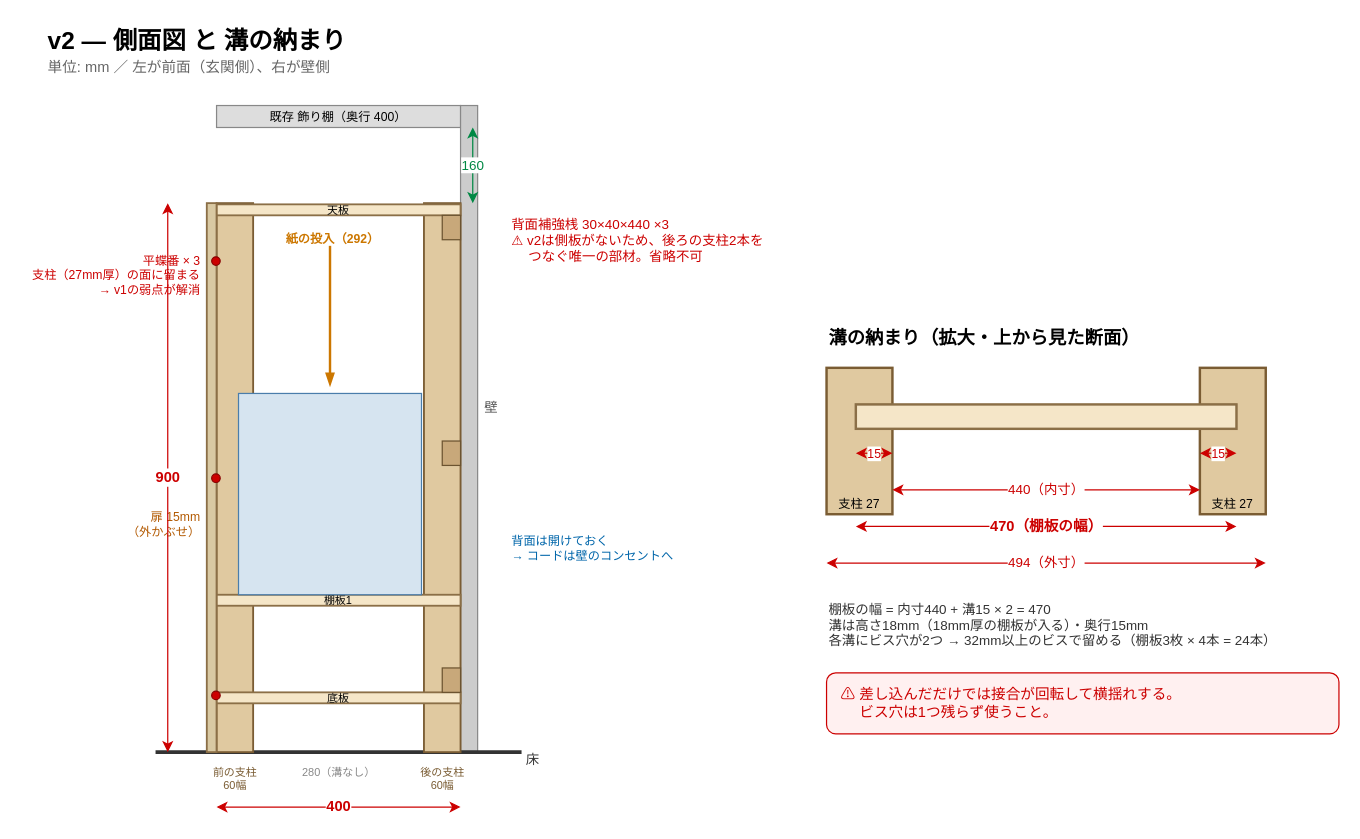
The diagram is 1360 pixels wide and 839 high, and some of its shapes have lost their labels. The shapes that lost their labels are listed below. From the top down, each one's centre as x and y in pixels, then its label:
At point 1045,416: "棚板 470 × 400 × 18".
At point 329,493: "シュレッダー".
